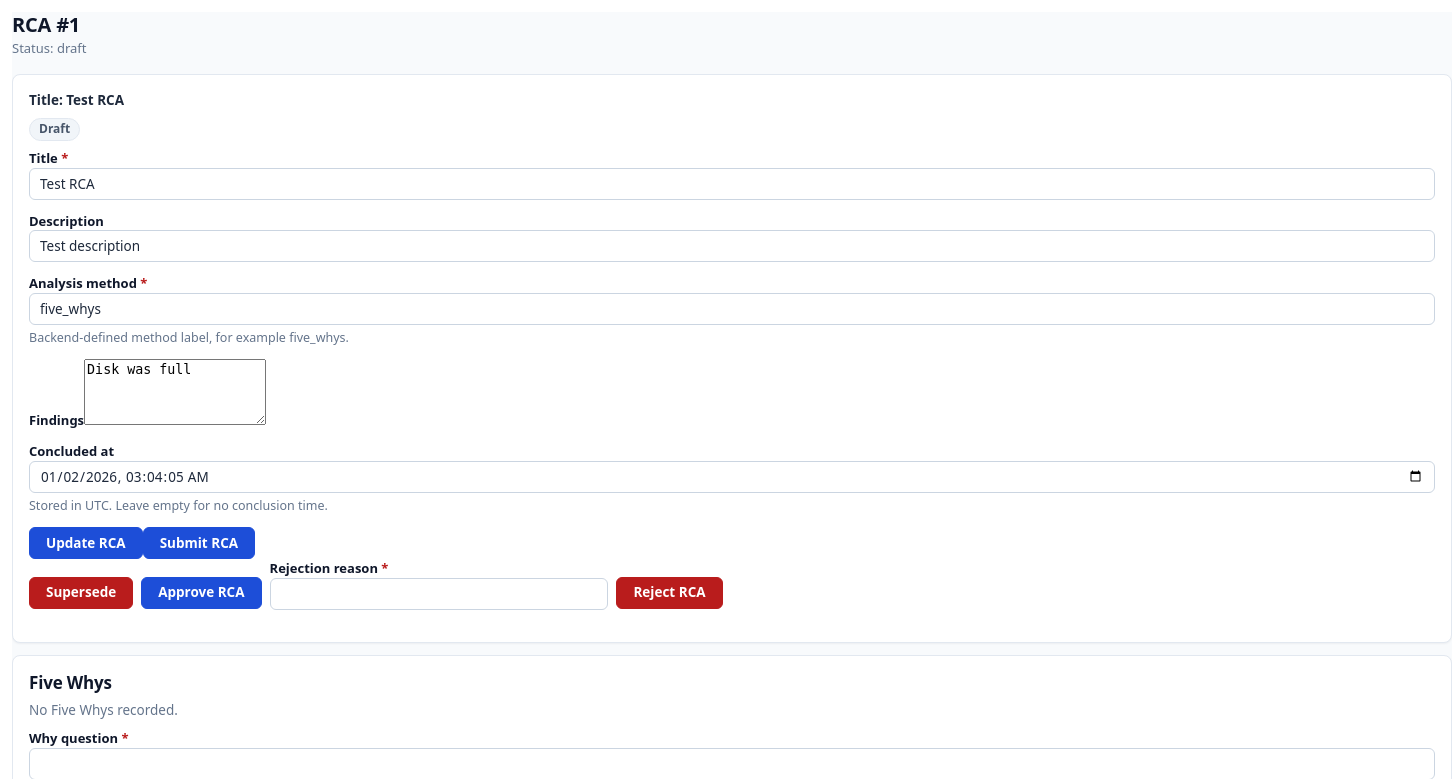
Test: RCA › shows backend field validation errors for analysis fields
What coordinates should you click on to do the following:
click the button "Update RCA"
I would click on:
 (86, 543)
Its box is [29,527,143,559].
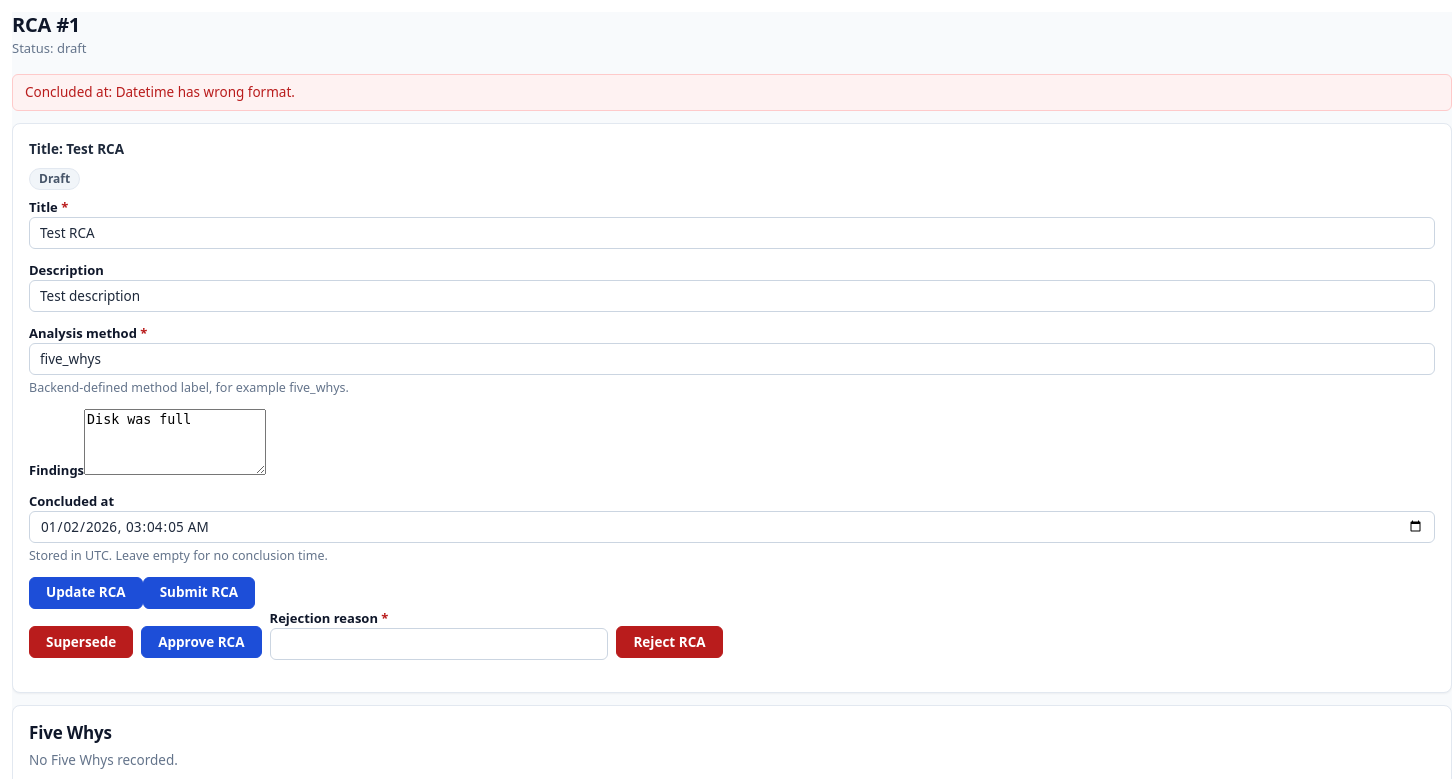
Check: the text "Concluded at: Datetime has wrong format." is shown, box [12,74,1451,111]
